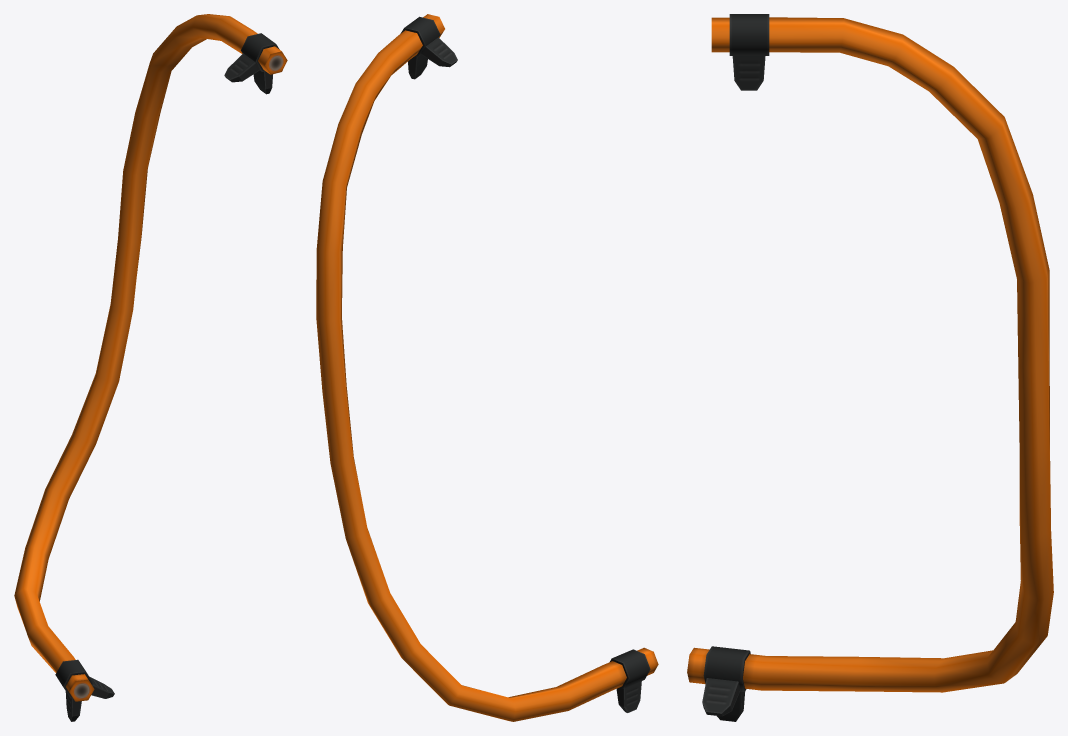
The model's file is jsf_GasRange_12b.fbx.
3 views of the same model, side by side, from view 1: azimuth 30°, elevation 25°; view 2: azimuth 150°, elevation 25°; view 3: azimuth 270°, elevation 25° (orthographic). The views are drawn at different scales.
Visible parts, largest first — view 1: GasHose; view 2: GasHose; view 3: GasHose.
Part boxes in pixels (<box>): GasHose: <box>14,14,287,721</box>; GasHose: <box>316,14,658,721</box>; GasHose: <box>687,14,1053,721</box>.
Size of the model in its own units: 17.57 by 46.3 by 18.54.
